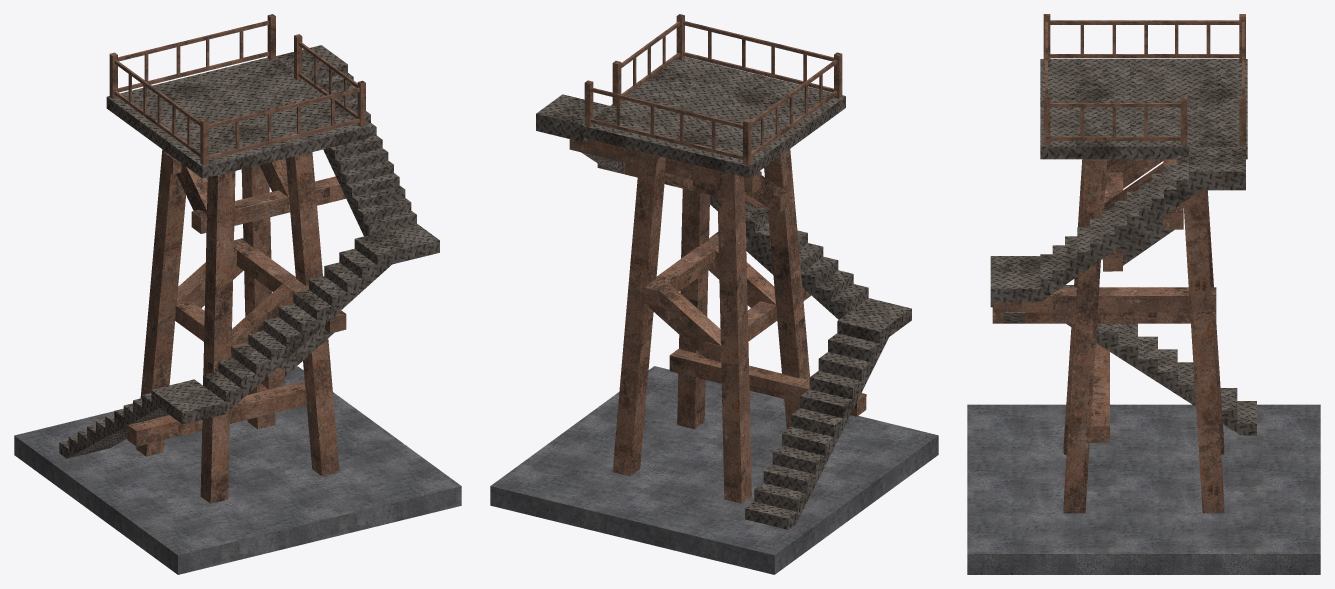
Rendered from tower.fbx.
3 views of the same model, side by side, from view 1: azimuth 30°, elevation 25°; view 2: azimuth 150°, elevation 25°; view 3: azimuth 270°, elevation 25° (orthographic). The views are drawn at different scales.
Parts seen in each view (by area): view 1: metal, stone; view 2: metal, stone; view 3: metal, stone.
Boxes of the visible parts, x1,y1,x2,y2 form: metal: [59, 14, 439, 503]; stone: [14, 366, 461, 574]; metal: [536, 14, 911, 529]; stone: [490, 366, 938, 574]; metal: [990, 14, 1256, 513]; stone: [967, 404, 1320, 574].
Bounding box in the file's own units: 608 × 843 × 608.
3 materials, 3 textured.
